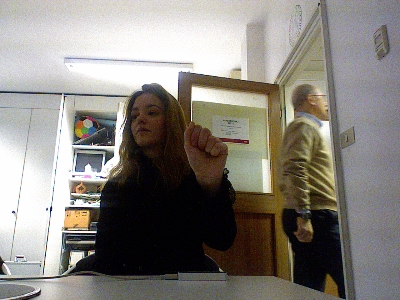石头: (182, 121, 229, 183)
